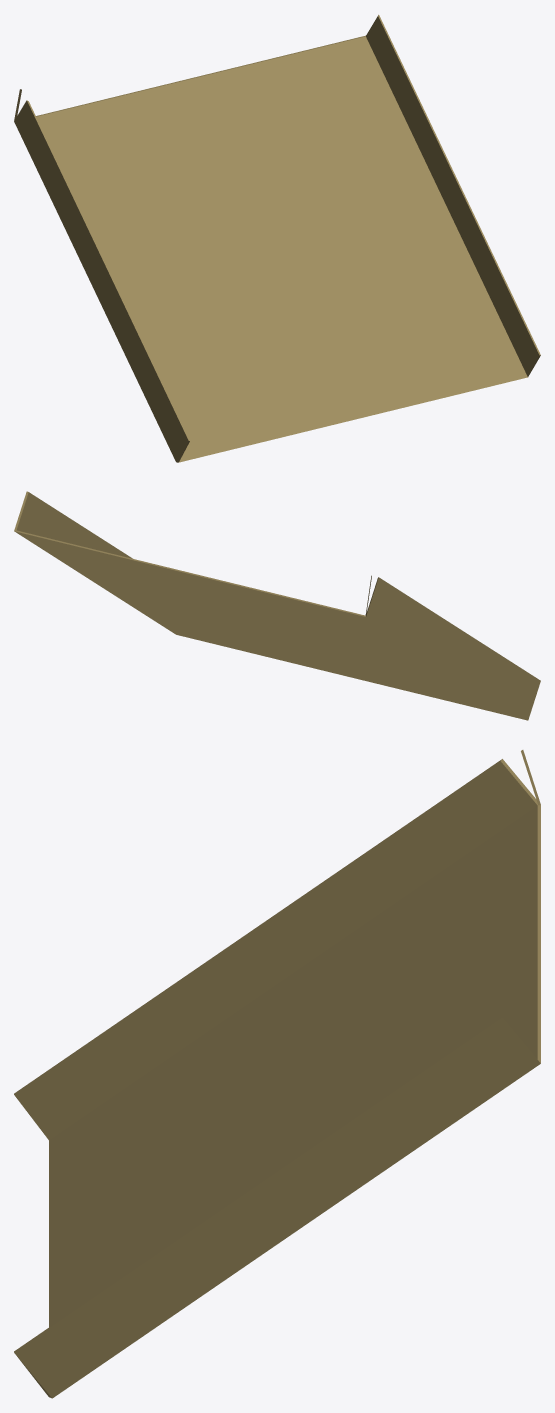
The model's file is original-4.obj.
3 renders of one model, top to bottom at view 1: azimuth 30°, elevation 25°; view 2: azimuth 150°, elevation 25°; view 3: azimuth 270°, elevation 25°, orthographic. The views are drawn at different scales.
Visible parts, largest first — view 1: #ID14; view 2: #ID14; view 3: #ID14.
Part boxes in pixels (x1,y1,x2,y2): #ID14: [14, 14, 540, 462]; #ID14: [14, 491, 540, 720]; #ID14: [14, 750, 540, 1398].
Size of the model in its own units: 0.8774 by 0.6168 by 0.7548.
